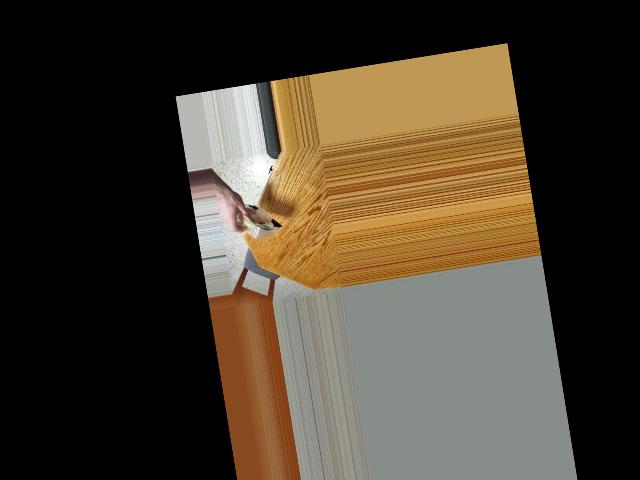cheese: (230, 185, 281, 251)
